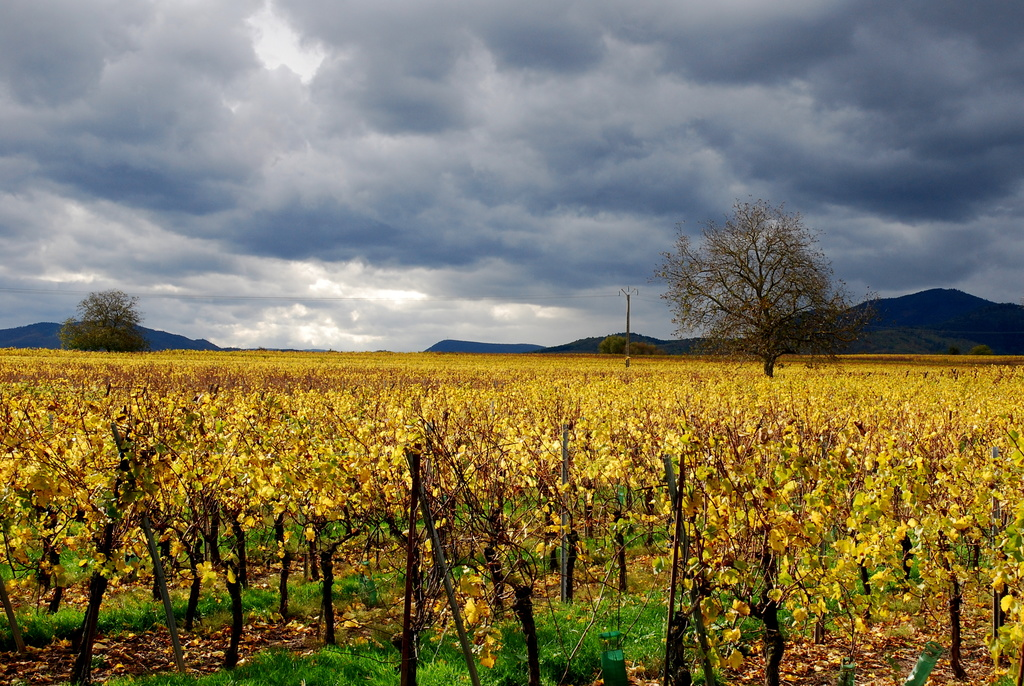Tree: (646, 194, 884, 377), (56, 287, 152, 352)
